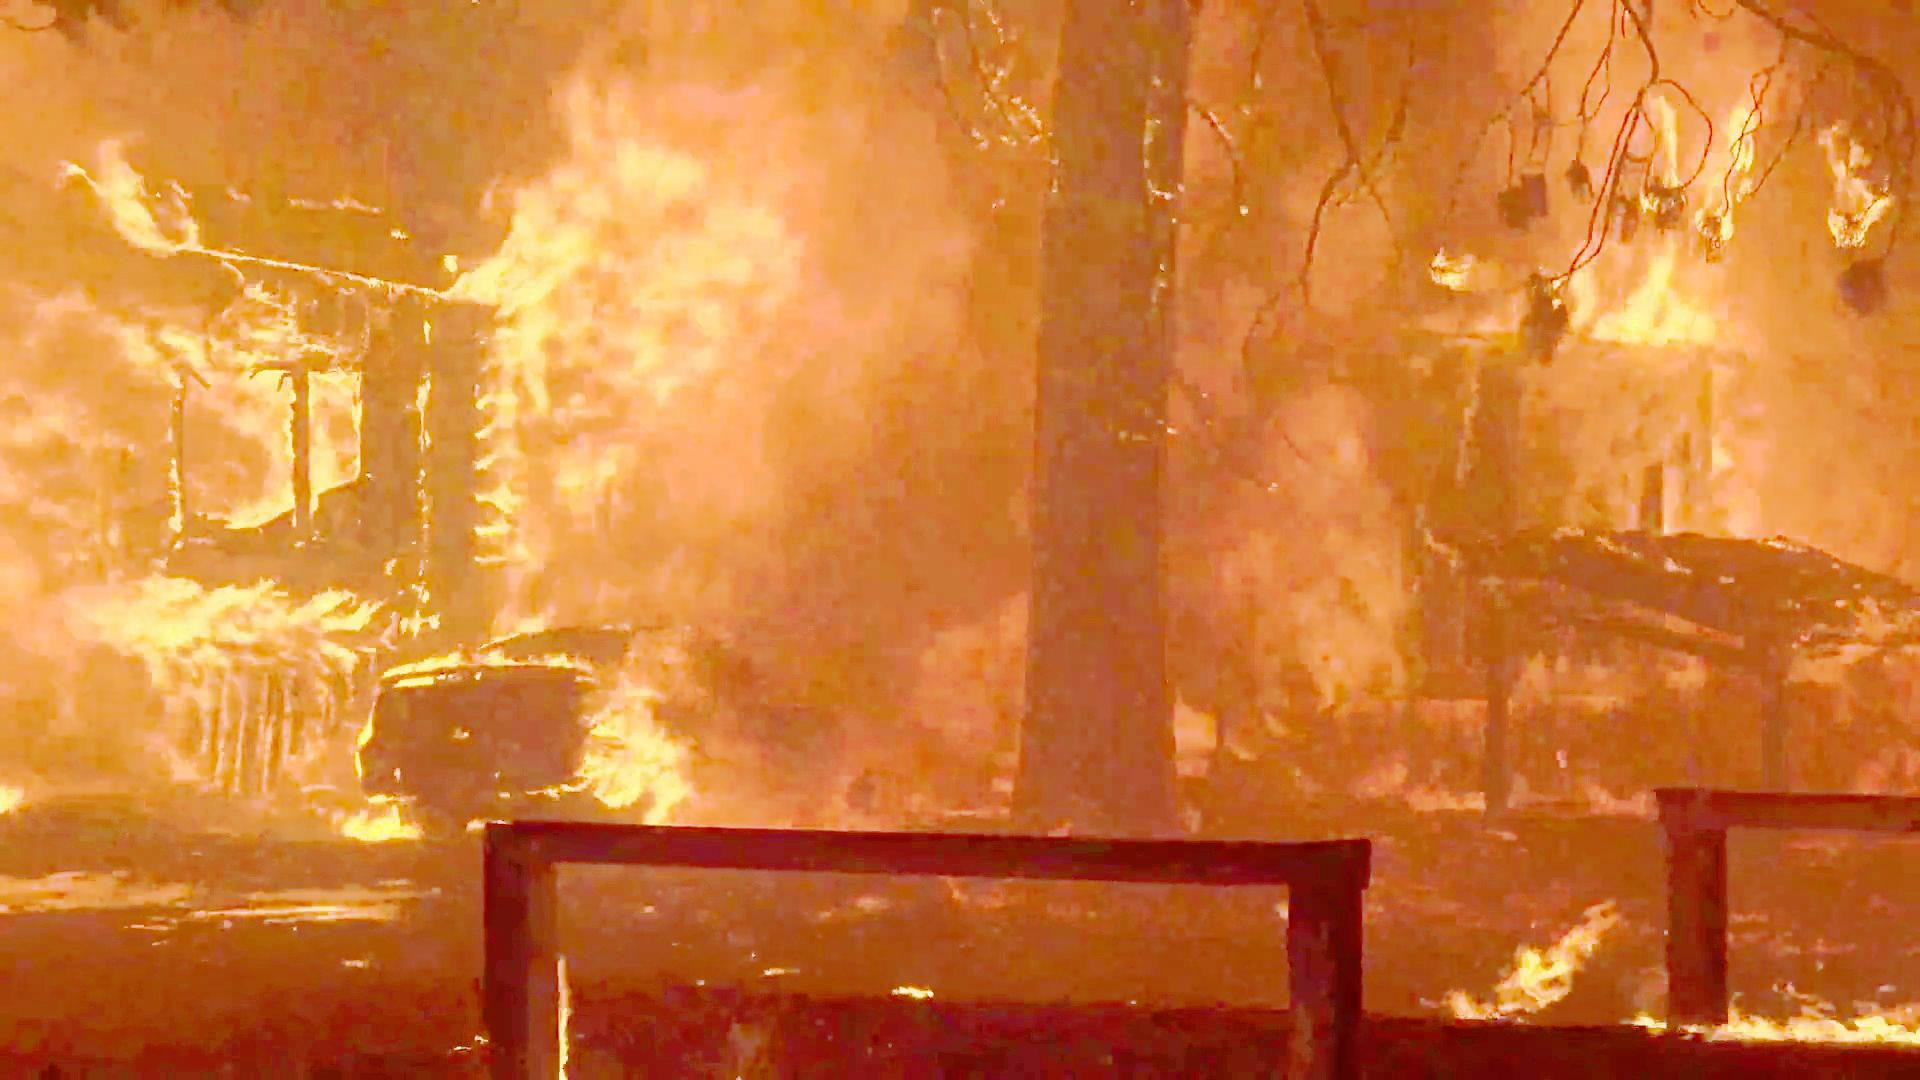fire: (0, 204, 385, 764), (491, 33, 895, 549), (1476, 898, 1920, 1058), (1575, 91, 1793, 332), (595, 646, 717, 820)
